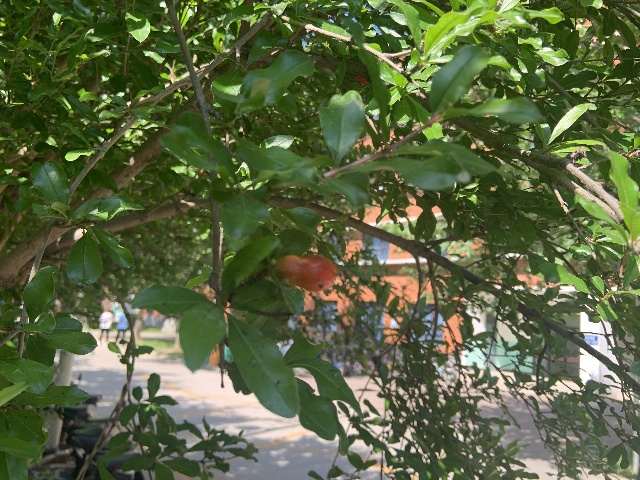bud: (274, 253, 336, 292)
flower: (356, 76, 369, 86)
